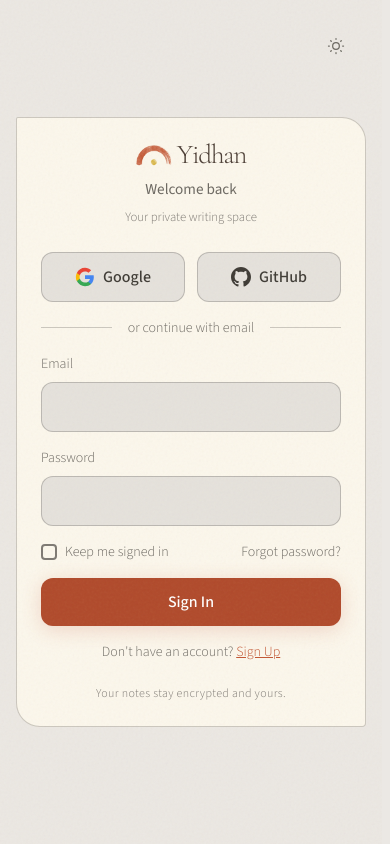
it: Auth › mode switching › switches from login to signup
Click the button "Sign Up" at [258, 652], box [236,642,280,662]
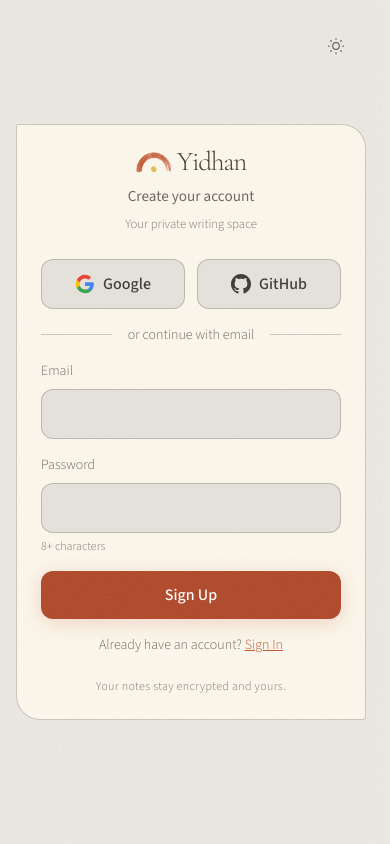
Expected: the heading "Create your account" is shown, [128,185,254,207]
